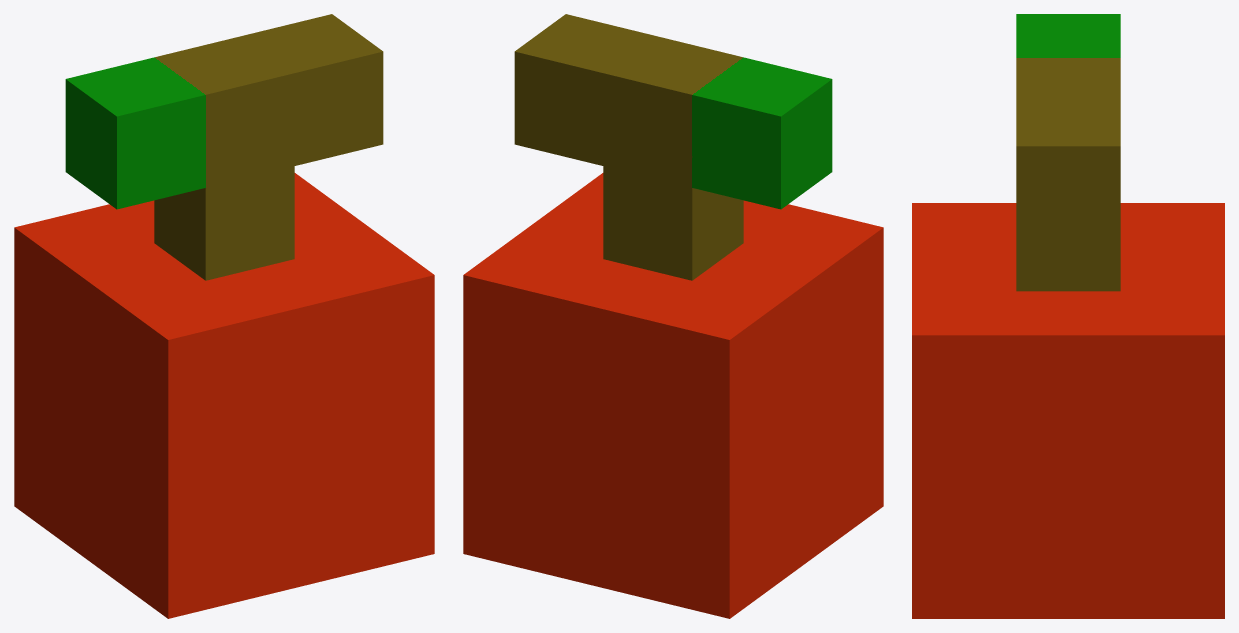
File: item_apple.fbx
3 renders of one model, left to right at view 1: azimuth 30°, elevation 25°; view 2: azimuth 150°, elevation 25°; view 3: azimuth 270°, elevation 25°, orthographic.
Parts seen in each view (by area): view 1: item_apple; view 2: item_apple; view 3: item_apple.
Part boxes in pixels (x1,y1,x2,y2): item_apple: [14, 14, 434, 618]; item_apple: [463, 14, 883, 618]; item_apple: [912, 14, 1224, 618].
Bounding box in the file's own units: 3 × 5 × 3.
